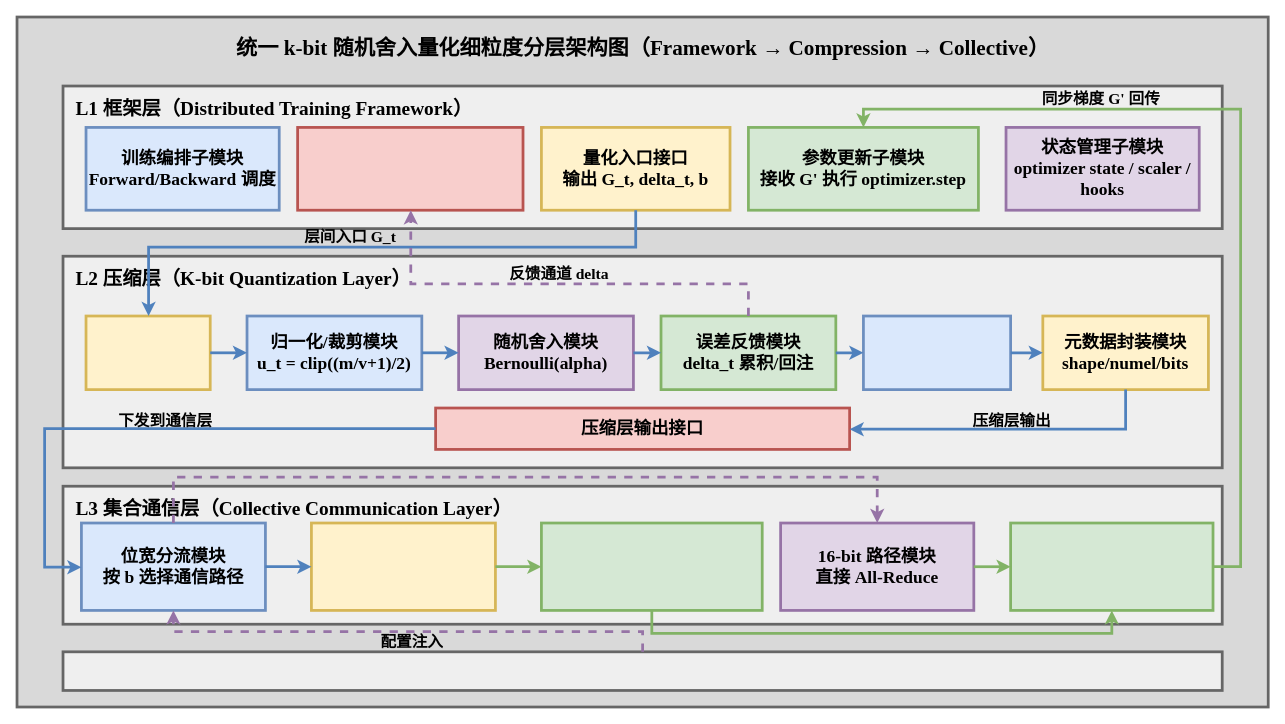
Image size: 1285x724. Some labels were removed from this diagram. The shapes that lost their labels are listed below. From the top down, each one's centre as x and y in pixels, then its label:
the point at 410,168: 梯度收集子模块 参数梯度 flatten / bucket
the point at 147,352: EMA 统计模块 m_t, v_t 更新
the point at 937,352: 位打包模块 PackBits(q_t, b)
the point at 403,566: 低比特分片交换模块 AllToAll+AllGather
the point at 651,566: 反量化聚合模块 dequantize_and_reduce
the point at 1111,566: 统一输出模块 输出同步梯度 G'
the point at 642,670: 全局配置：位宽 b in {1,2,4,8,16}；WorldGroup；误差反馈开关；压缩元数据协议
